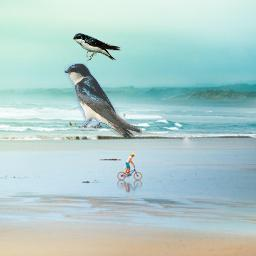Swallow: (64, 63, 142, 139), (73, 33, 122, 62)
